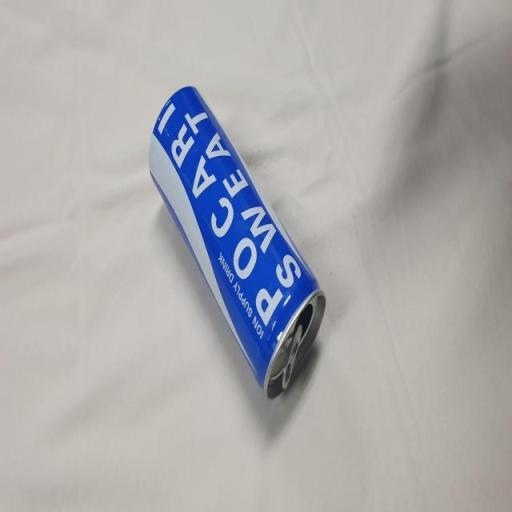metal: (121, 36, 358, 459)
